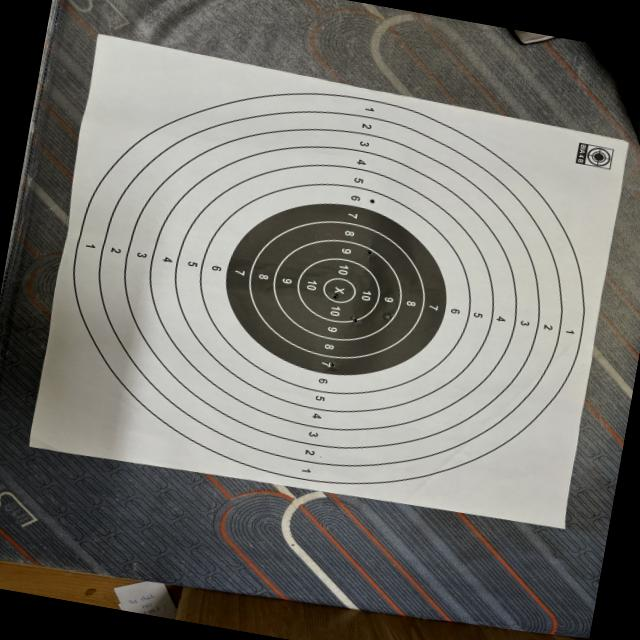bullet: (382, 312, 392, 321), (351, 315, 361, 323), (330, 292, 338, 299), (364, 247, 369, 255), (329, 363, 336, 367), (369, 199, 374, 203)
target: (29, 42, 636, 528)
